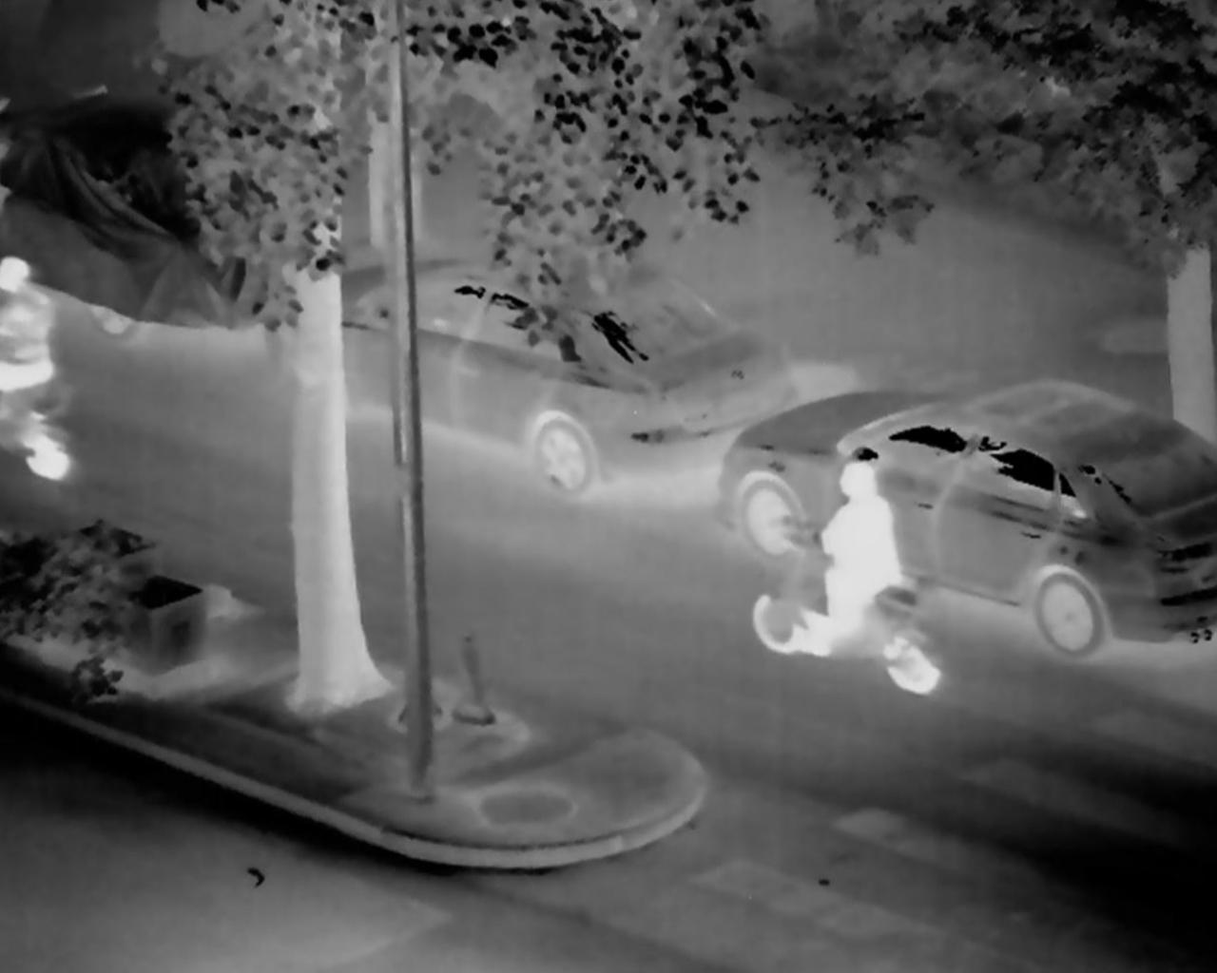person: (788, 460, 922, 683)
